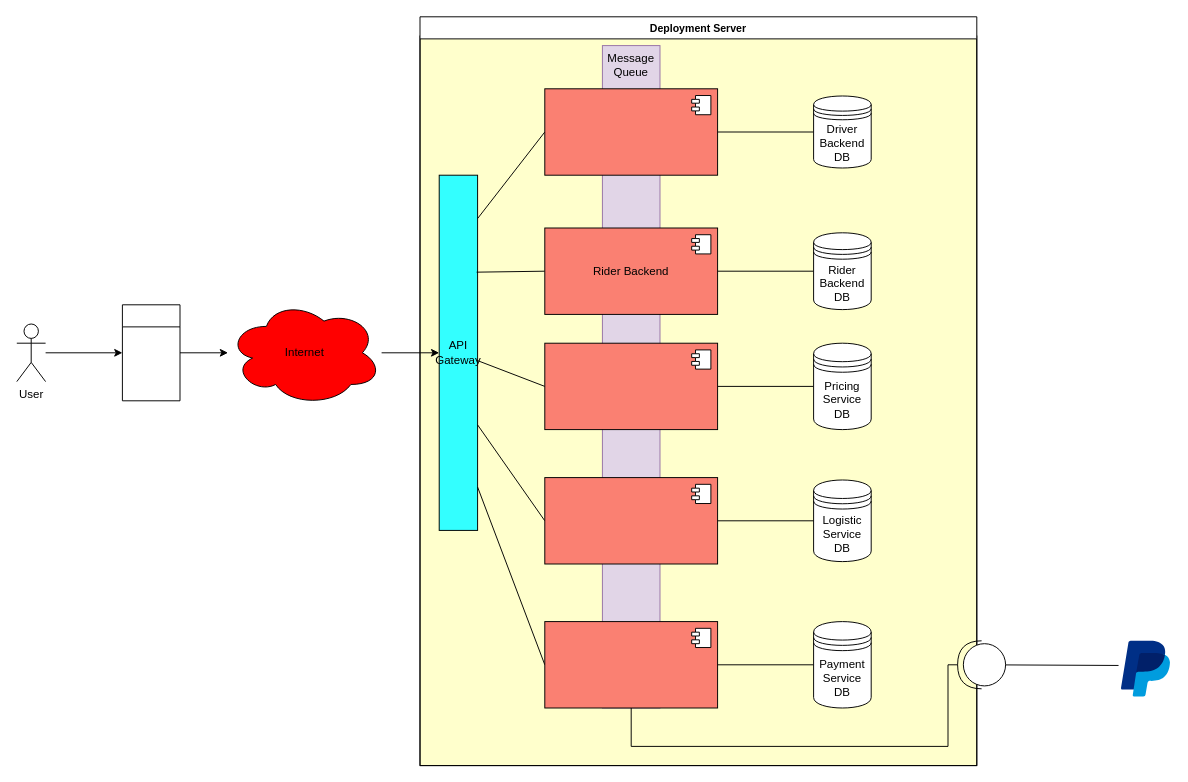
Some shapes in this 1188 by 782 pixel diagram are drawn without their labels. Each missing label, with the box of its shape:
Device: (121, 304, 180, 401)
Driver Backend: (544, 88, 718, 175)
Logistic Service: (544, 477, 718, 564)
Payment Service: (544, 621, 718, 708)
Pricing Service: (544, 342, 718, 430)
